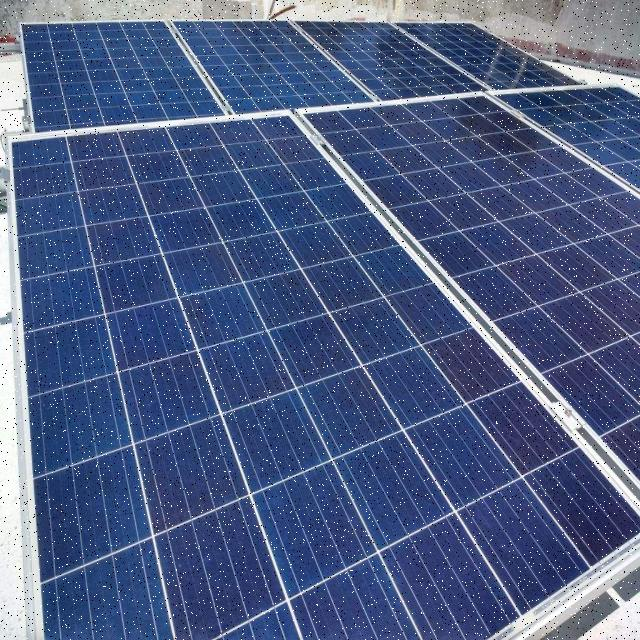clean: (11, 20, 640, 630)
